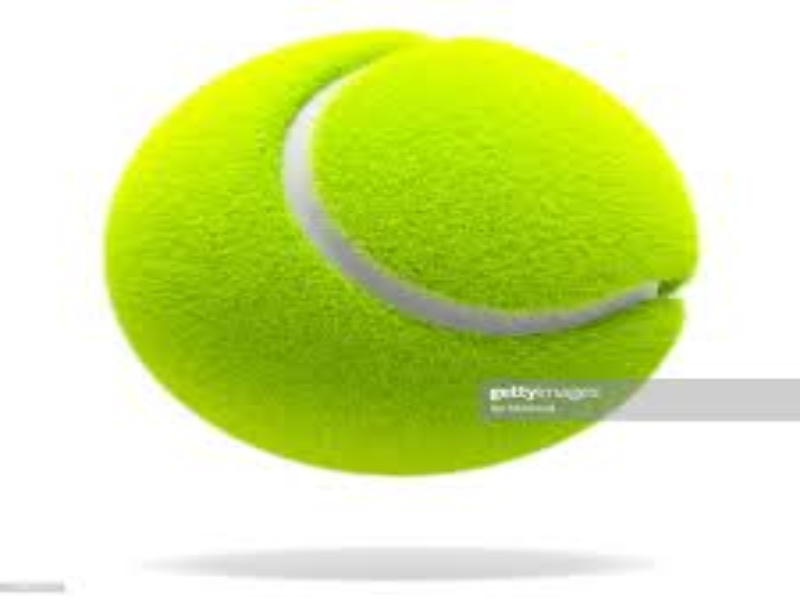tennis ball: (105, 18, 703, 486)
